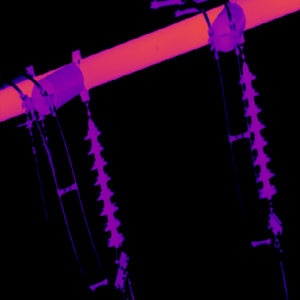insulator: (83, 116, 123, 249), (238, 60, 276, 200), (30, 61, 84, 116), (211, 1, 246, 53)
